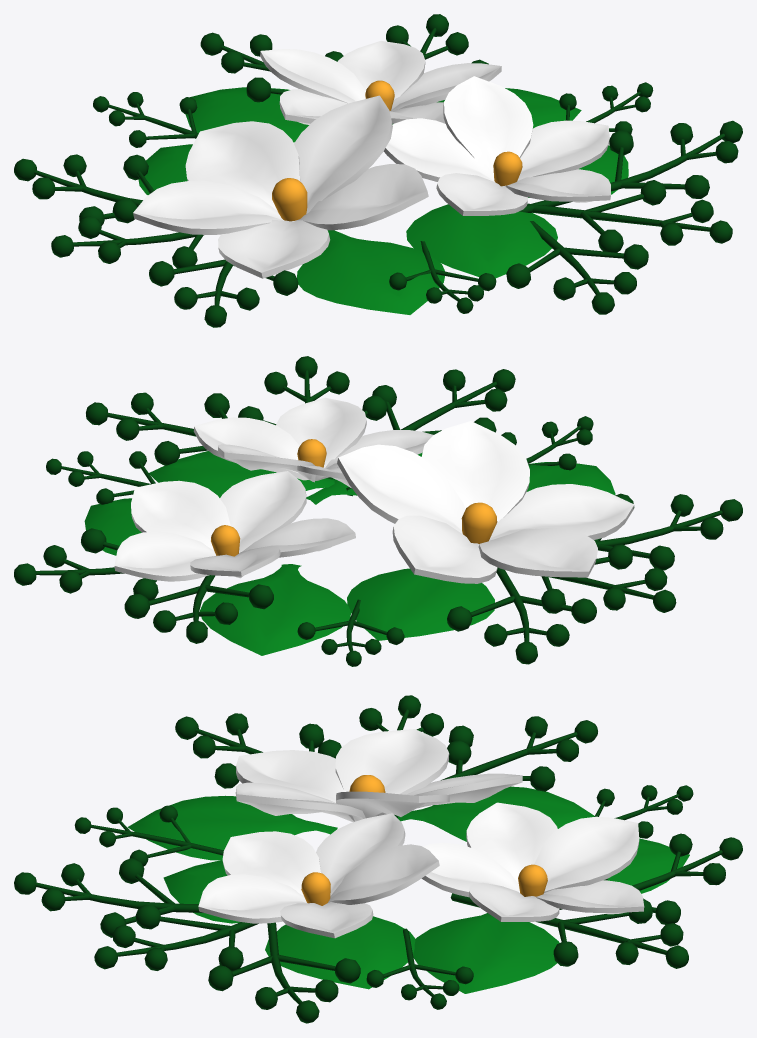
The model's file is Cake_ThemeFLowers_A.FBX.
3 renders of one model, top to bottom at view 1: azimuth 30°, elevation 25°; view 2: azimuth 150°, elevation 25°; view 3: azimuth 270°, elevation 25°, orthographic.
Parts seen in each view (by area): view 1: Cake_ThemeFLowers_A; view 2: Cake_ThemeFLowers_A; view 3: Cake_ThemeFLowers_A.
Part boxes in pixels (<box>): Cake_ThemeFLowers_A: <box>14,14,742,327</box>; Cake_ThemeFLowers_A: <box>14,356,742,666</box>; Cake_ThemeFLowers_A: <box>14,695,742,1023</box>.
Size of the model in its own units: 124994 by 16644 by 122309.
